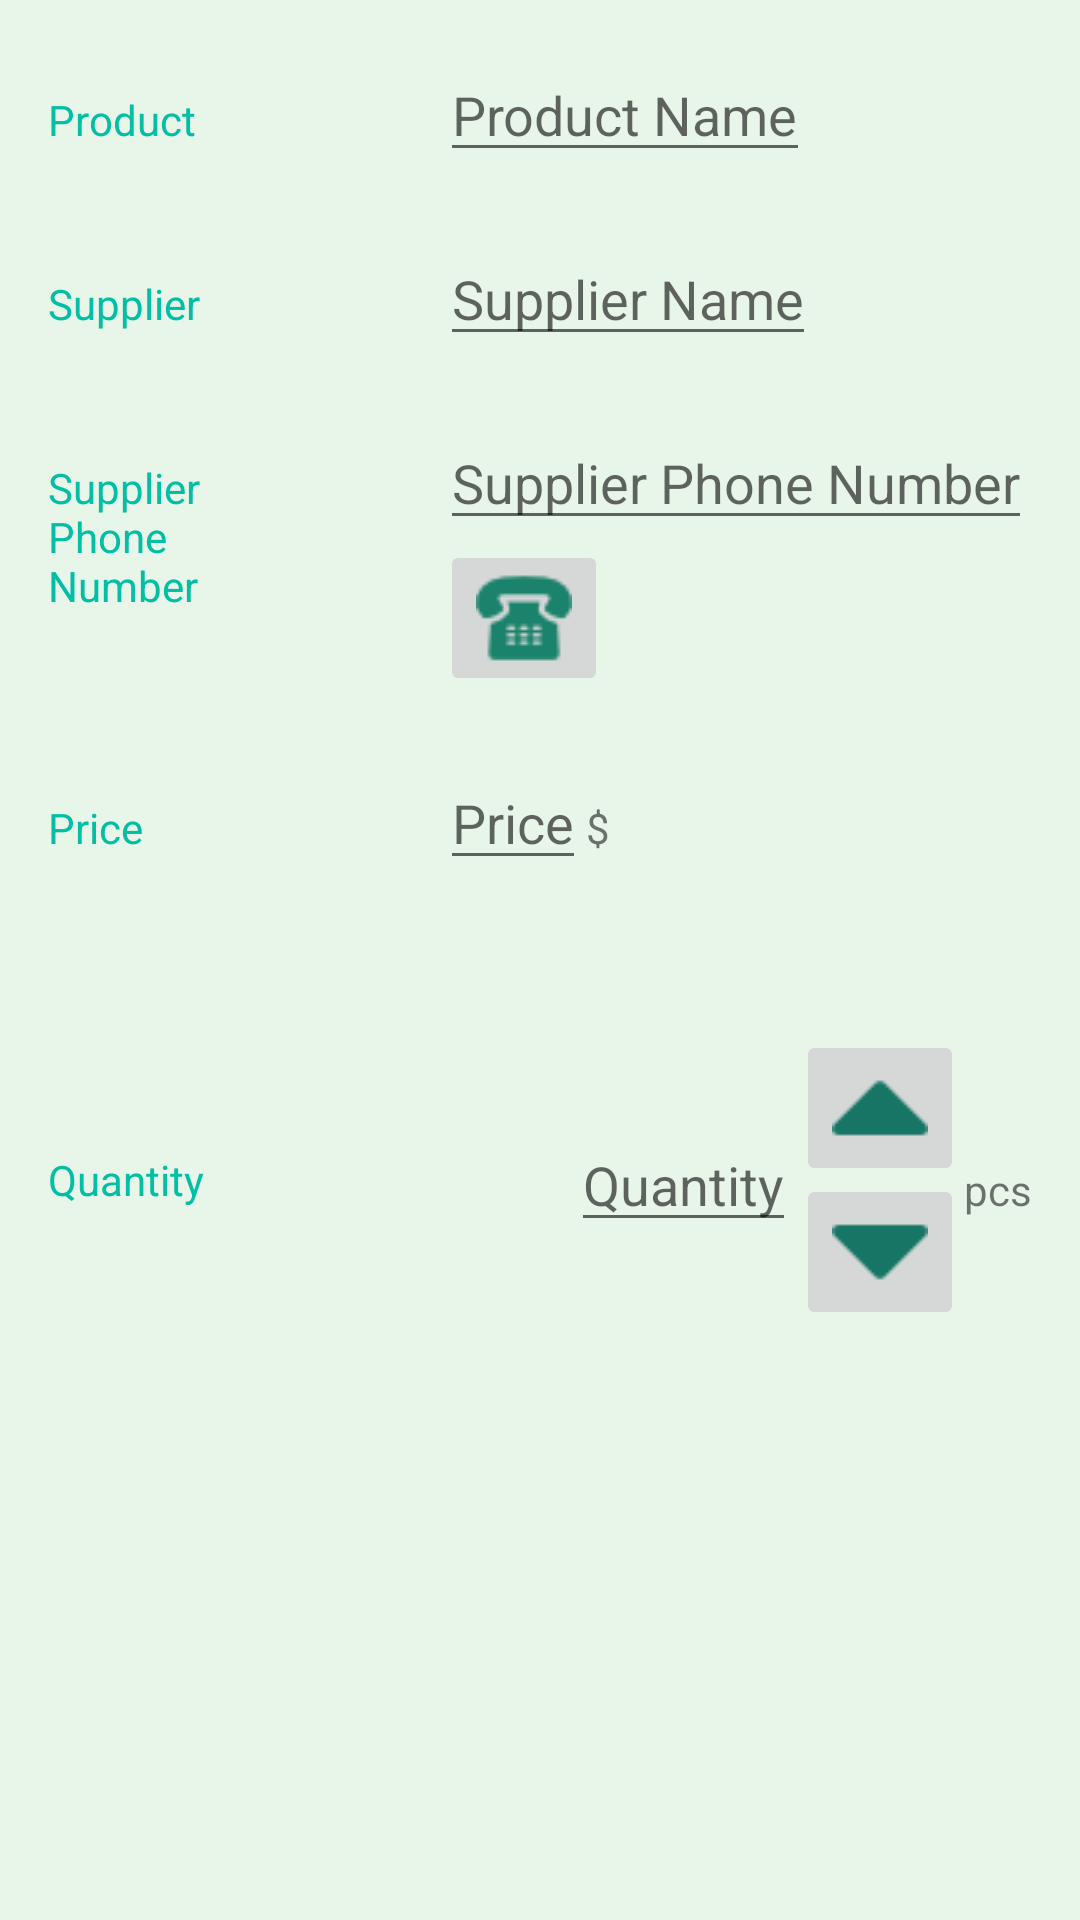

Icon click points for this 1080×1920 phone screenshot, format [x,y]:
minus: [880,1252]
plus: [880,1108]
